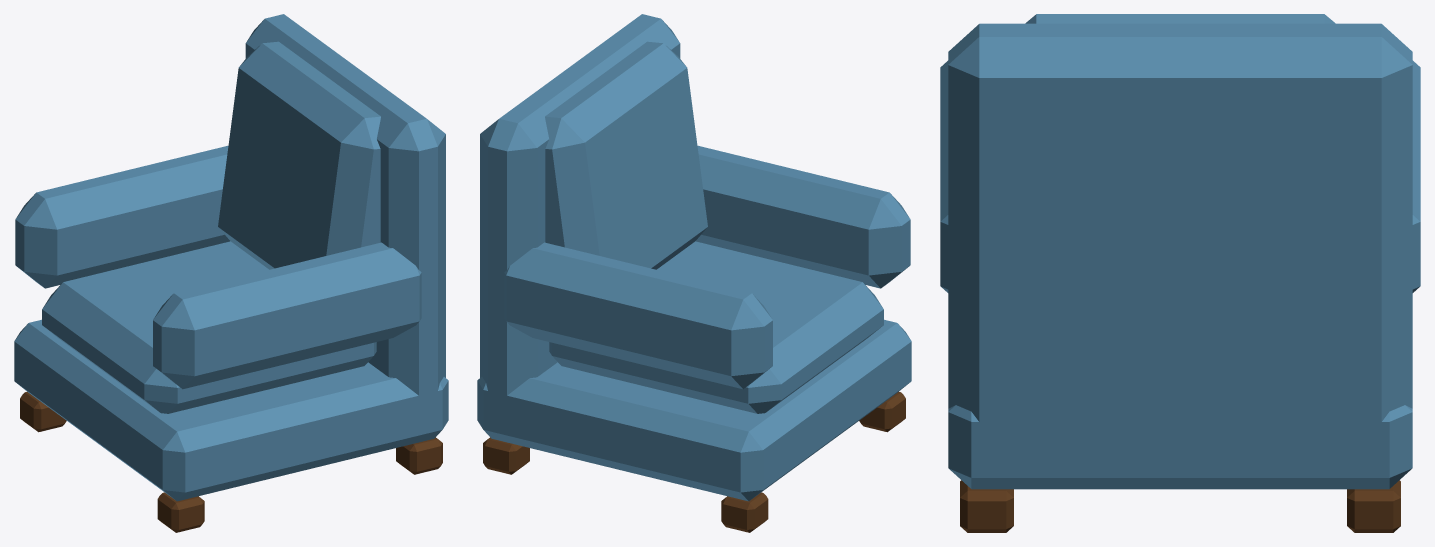
Rendered from Armchair.fbx.
3 views of the same model, side by side, from view 1: azimuth 30°, elevation 25°; view 2: azimuth 150°, elevation 25°; view 3: azimuth 270°, elevation 25° (orthographic). The views are drawn at different scales.
Visible parts, largest first — view 1: Arm, Seat, Leg; view 2: Arm, Seat, Leg; view 3: Arm, Leg, Seat.
Part boxes in pixels (bbox=[...]): Arm: bbox=[14, 14, 448, 501]; Seat: bbox=[42, 41, 380, 413]; Leg: bbox=[20, 392, 442, 532]; Arm: bbox=[477, 14, 911, 501]; Seat: bbox=[545, 41, 883, 413]; Leg: bbox=[483, 392, 905, 532]; Arm: bbox=[940, 23, 1420, 489]; Leg: bbox=[960, 480, 1400, 532]; Seat: bbox=[1025, 14, 1335, 23].
Bounding box in the file's own units: 3 × 3.5 × 3.1.
